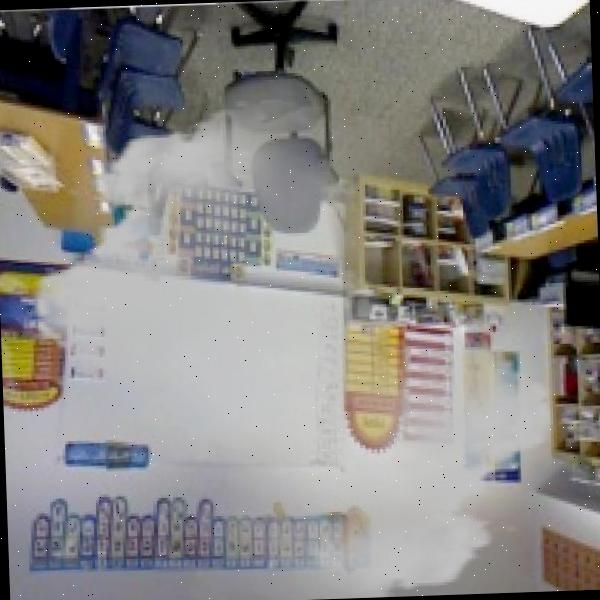smoke: (8, 89, 576, 600)
